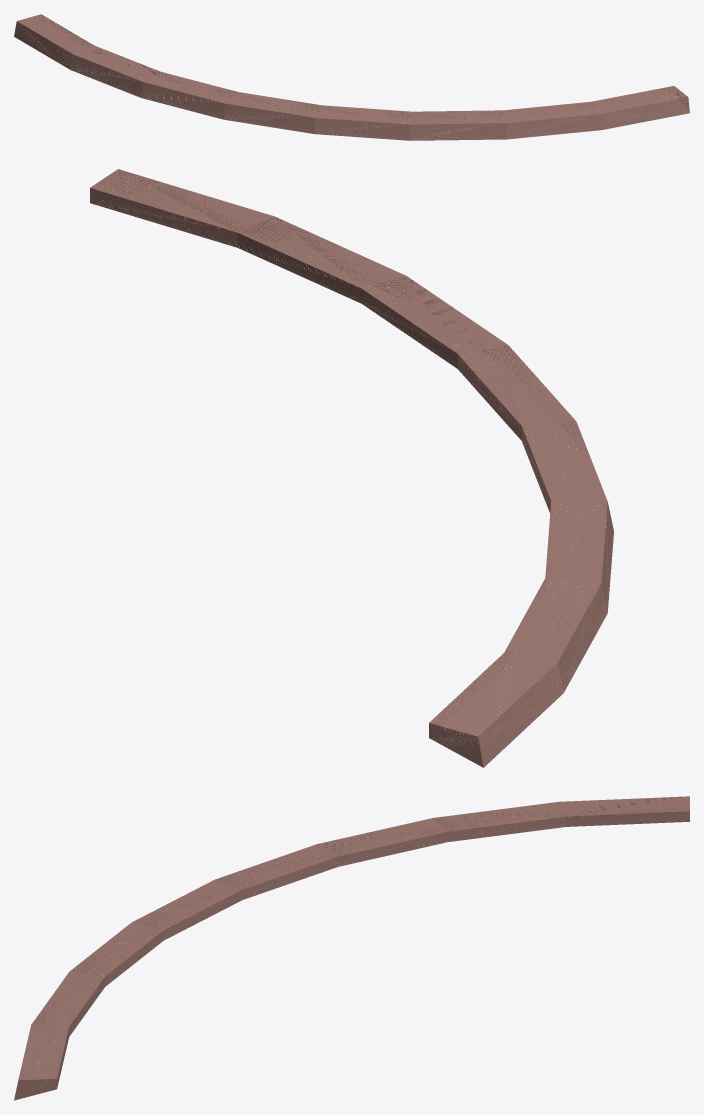
Rendered from SW_ENV_EL_TrackBase_Walkway_SingleInner_Side_A_Collision.fbx.
3 renders of one model, top to bottom at view 1: azimuth 30°, elevation 25°; view 2: azimuth 150°, elevation 25°; view 3: azimuth 270°, elevation 25°, orthographic. The views are drawn at different scales.
Parts seen in each view (by area): view 1: SW_ENV_EL_TrackBase_Walkway_SingleInner_Side_A_Collision; view 2: SW_ENV_EL_TrackBase_Walkway_SingleInner_Side_A_Collision; view 3: SW_ENV_EL_TrackBase_Walkway_SingleInner_Side_A_Collision.
Part boxes in pixels (left/top/right/bottom): SW_ENV_EL_TrackBase_Walkway_SingleInner_Side_A_Collision: left=14, top=14, right=689, bottom=140; SW_ENV_EL_TrackBase_Walkway_SingleInner_Side_A_Collision: left=90, top=169, right=613, bottom=767; SW_ENV_EL_TrackBase_Walkway_SingleInner_Side_A_Collision: left=14, top=796, right=689, bottom=1100.
Size of the model in its own units: 2355 by 83.5 by 2355.
